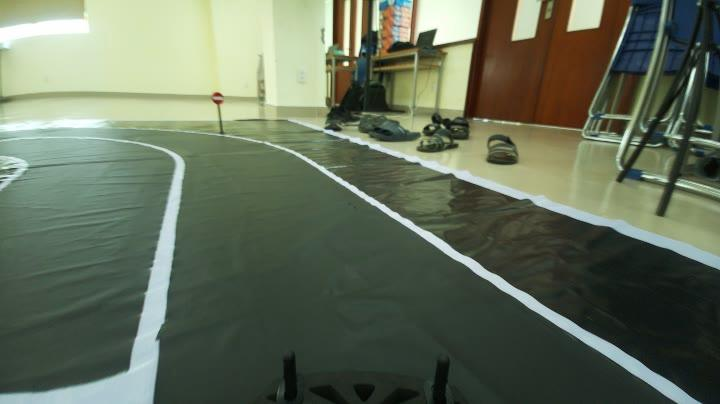no_entry: (206, 86, 230, 106)
